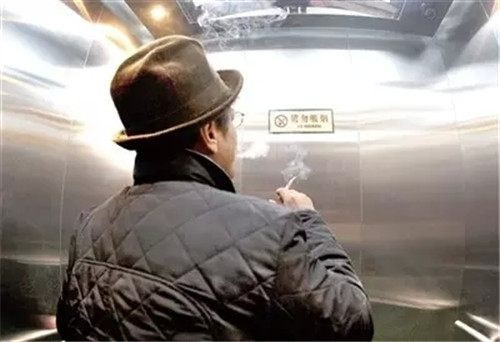yanwu: (200, 1, 287, 43), (282, 147, 309, 177), (236, 139, 271, 161)
